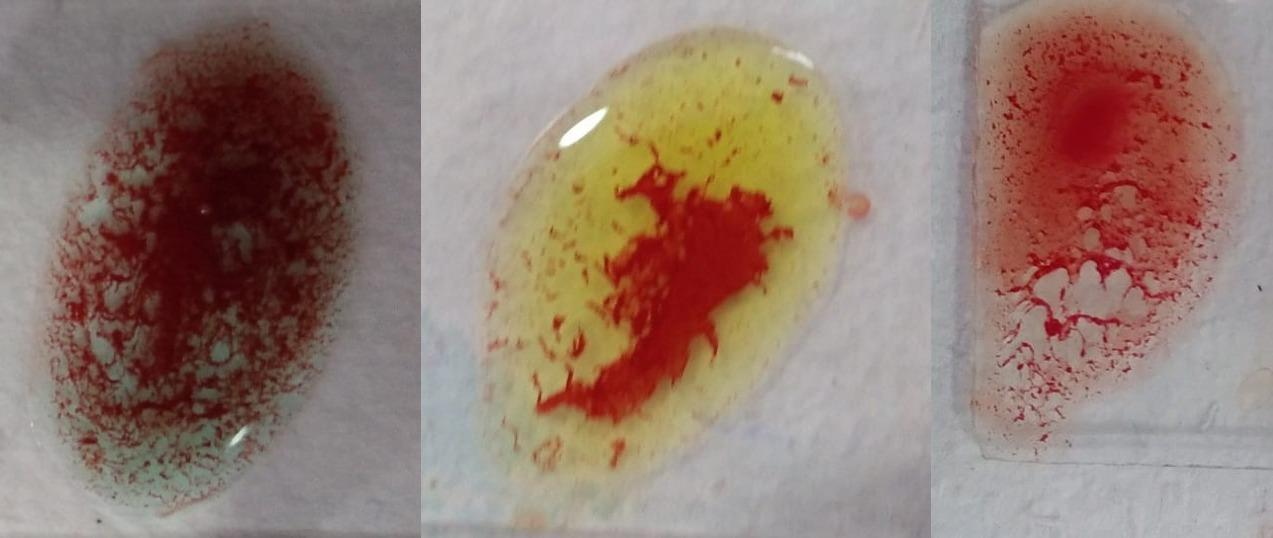A: (57, 18, 356, 506)
B: (495, 25, 837, 499)
D: (976, 8, 1242, 451)
